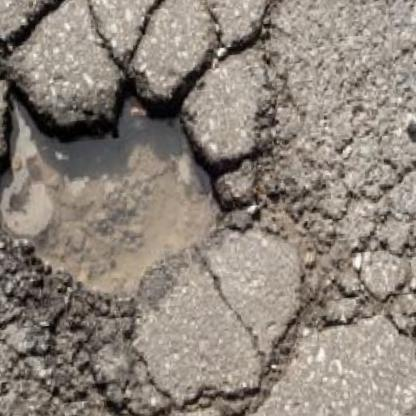pothole: (0, 55, 251, 328)
